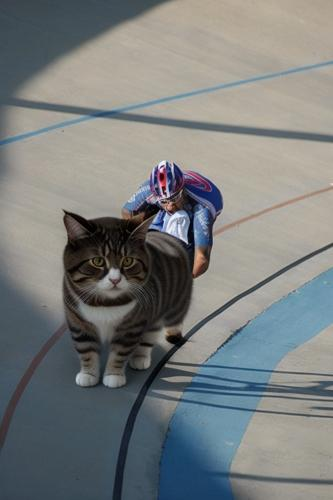cat: (61, 209, 194, 387)
person: (103, 159, 225, 372)
person/foot: (106, 333, 130, 361), (99, 267, 121, 297)
person/hand: (98, 246, 118, 265), (160, 284, 175, 302)
person/head: (149, 161, 186, 215)
